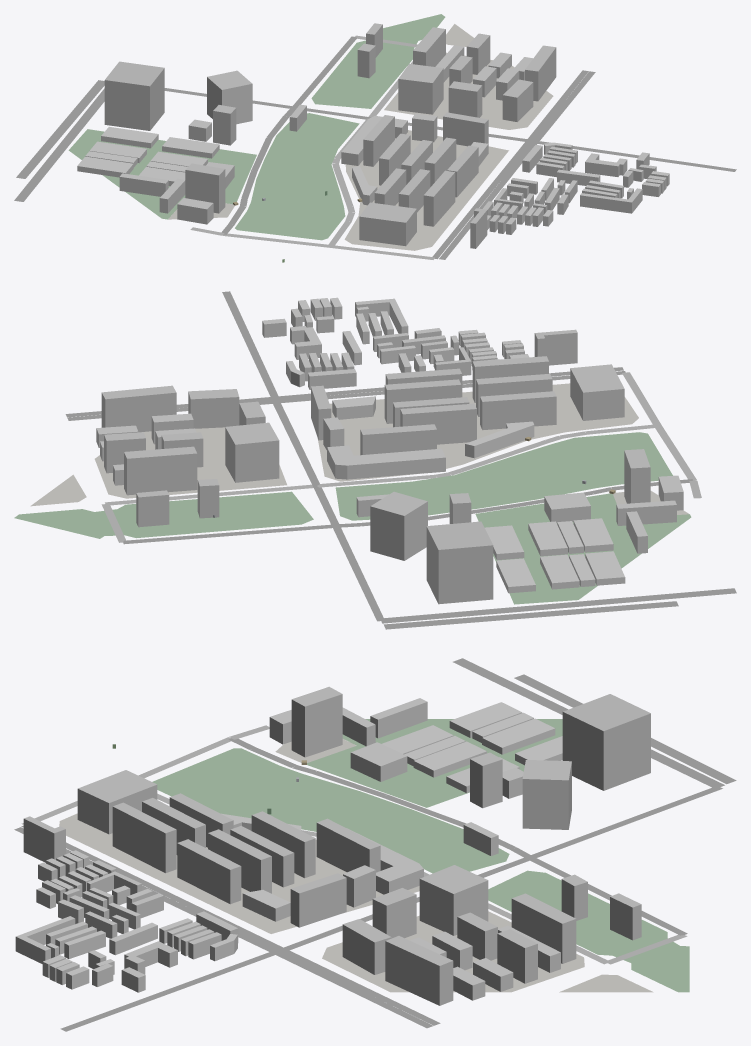
3 renders of one model, top to bottom at view 1: azimuth 30°, elevation 25°; view 2: azimuth 150°, elevation 25°; view 3: azimuth 270°, elevation 25°, orthographic. The views are drawn at different scales.
Bounding box in the file's own units: 684 × 51.42 × 559.
